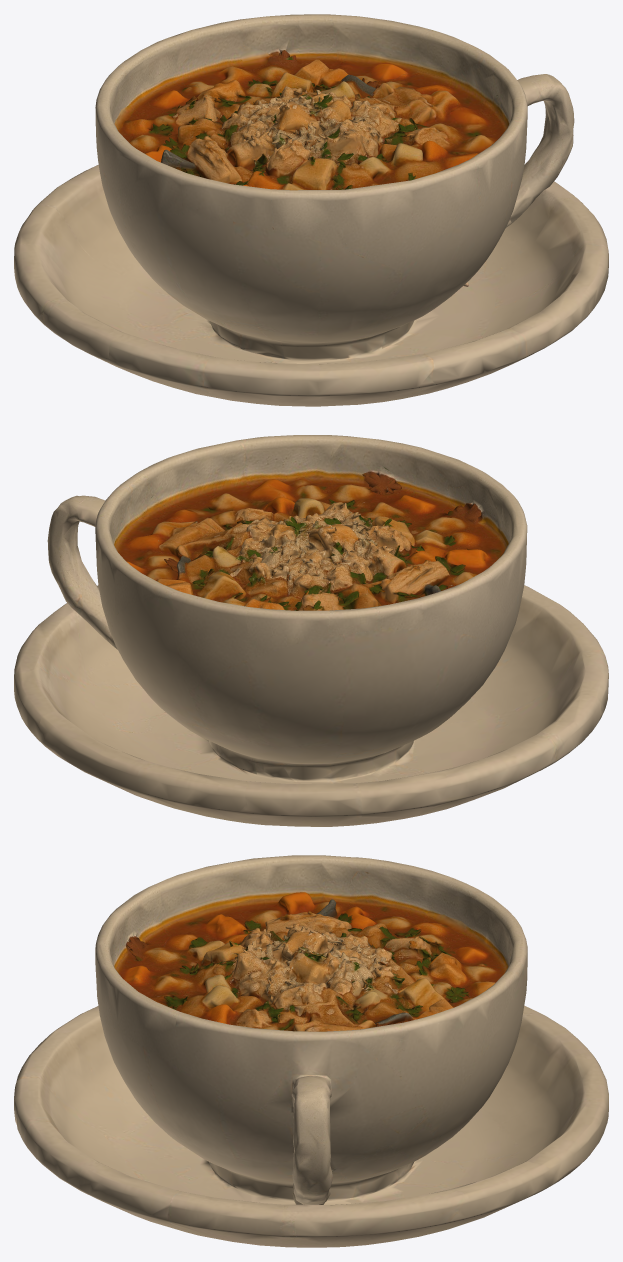
Rendered from soup.glb.
3 renders of one model, top to bottom at view 1: azimuth 30°, elevation 25°; view 2: azimuth 150°, elevation 25°; view 3: azimuth 270°, elevation 25°, orthographic.
Visible parts, largest first — view 1: mesh_node; view 2: mesh_node; view 3: mesh_node.
Boxes of the visible parts, left/top/right/bottom form: mesh_node: left=14, top=14, right=608, bottom=406; mesh_node: left=14, top=435, right=608, bottom=826; mesh_node: left=14, top=855, right=608, bottom=1247.
Size of the model in its own units: 1.9 by 0.867 by 1.9.
1 material, 1 textured.
